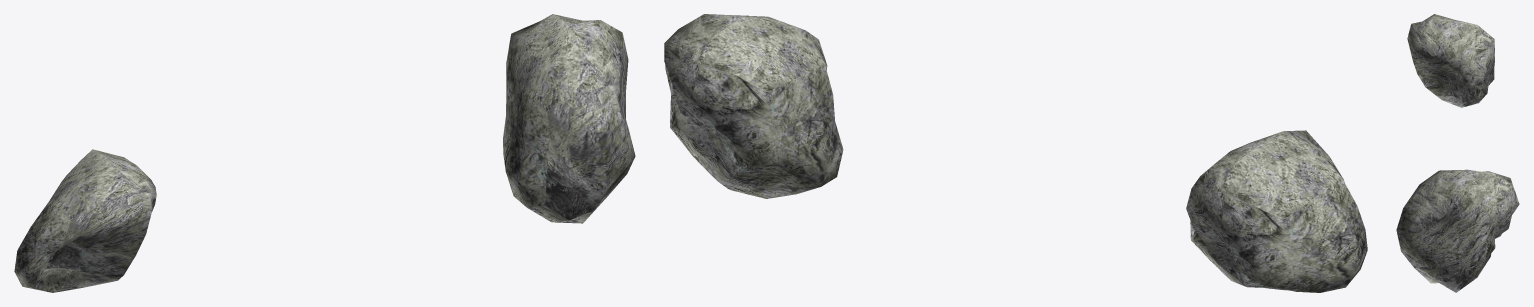
The model's file is rocks.fbx.
The picture shows the model from 3 angles, left to right: view 1: azimuth 30°, elevation 25°; view 2: azimuth 150°, elevation 25°; view 3: azimuth 270°, elevation 25°; orthographic projection. The views are drawn at different scales.
Visible parts, largest first — view 1: rock_1, rock_2; view 2: rock_1, rock_2; view 3: rock_1, rock_2.
Part boxes in pixels (x1,y1,x2,y2): rock_1: [503, 14, 635, 223]; rock_2: [14, 149, 156, 292]; rock_1: [664, 14, 843, 198]; rock_2: [1186, 130, 1367, 292]; rock_1: [1396, 169, 1519, 292]; rock_2: [1407, 14, 1494, 107].
Size of the model in its own units: 73.42 by 19.64 by 18.56.
